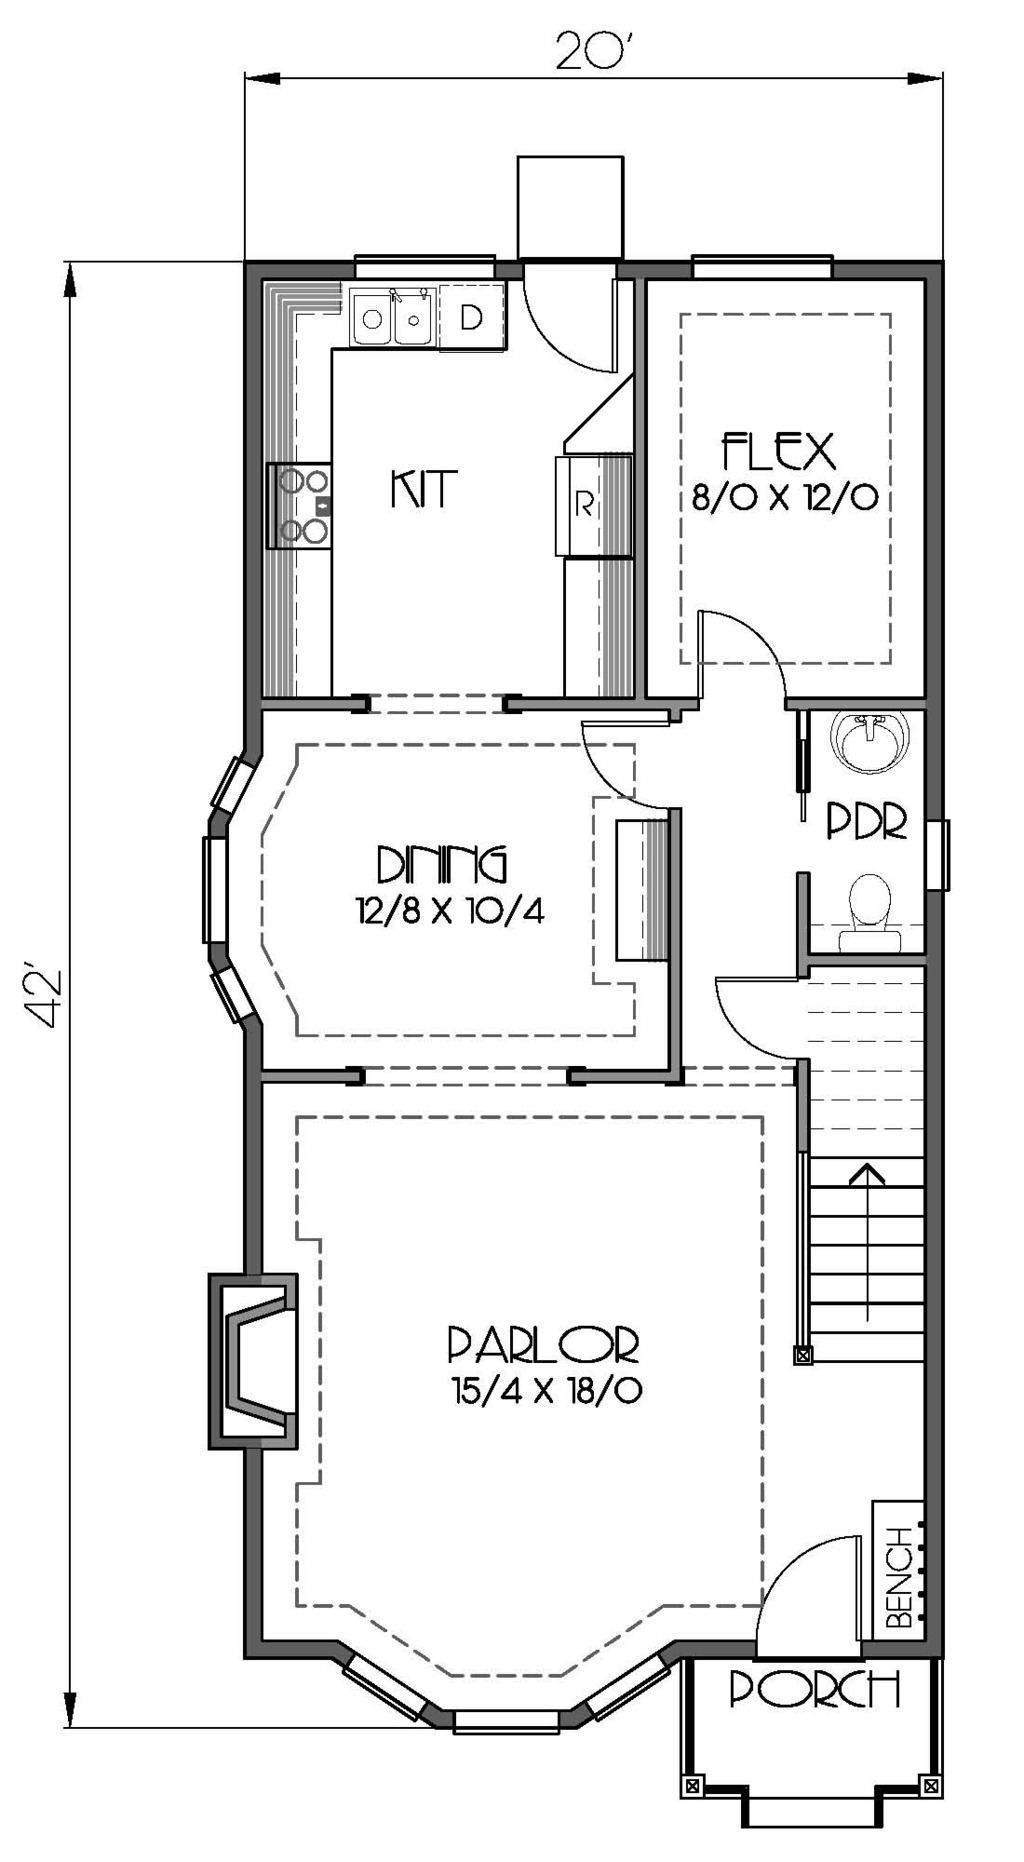door: (747, 1523, 873, 1662), (678, 598, 805, 717), (523, 258, 638, 382), (720, 958, 808, 1070), (579, 717, 685, 808)
large_sink: (820, 855, 914, 956)
small_sink: (820, 711, 914, 779)
stairs: (797, 973, 934, 1370)
twin_sink: (347, 270, 444, 349)
window: (340, 1649, 682, 1735), (208, 755, 264, 1038), (694, 247, 847, 298), (926, 811, 961, 894)
